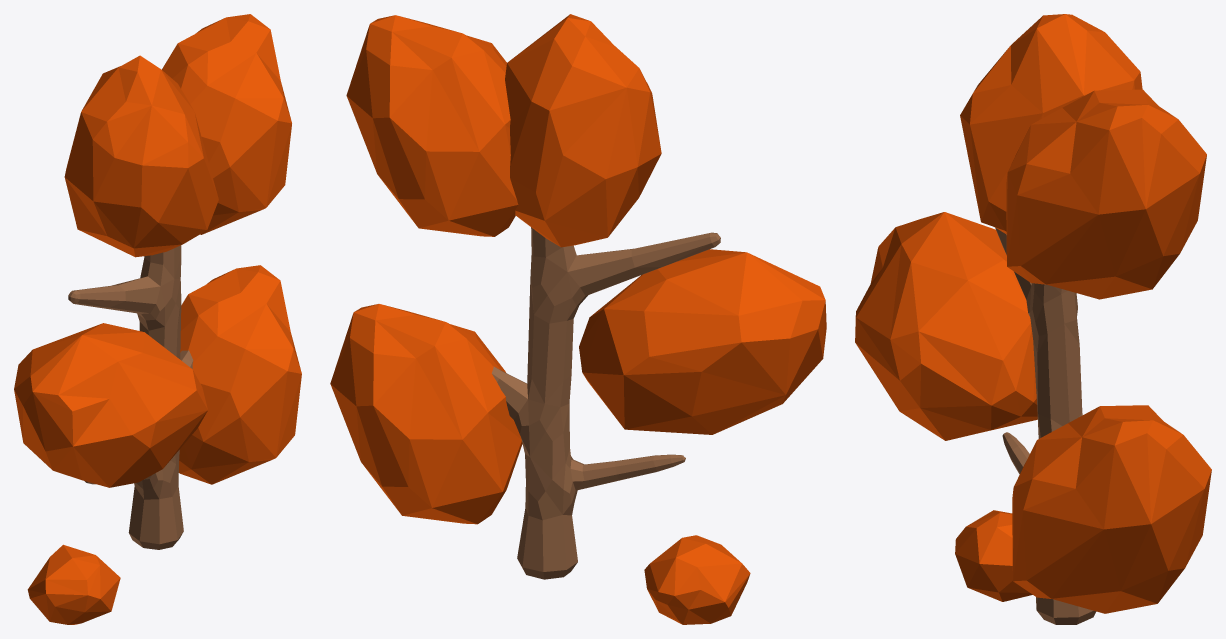
File: tree-autumn-complete-11-003.glb
The picture shows the model from 3 angles, left to right: view 1: azimuth 30°, elevation 25°; view 2: azimuth 150°, elevation 25°; view 3: azimuth 270°, elevation 25°; orthographic projection. The views are drawn at different scales.
Parts seen in each view (by area): view 1: TREE 11.003_384, TREE 11.002_385; view 2: TREE 11.003_384, TREE 11.002_385; view 3: TREE 11.003_384, TREE 11.002_385.
Part boxes in pixels (x1,y1,x2,y2): TREE 11.003_384: (14,14,301,624); TREE 11.002_385: (68,245,193,549); TREE 11.003_384: (330,14,826,624); TREE 11.002_385: (491,227,720,579); TREE 11.003_384: (855,14,1211,613); TREE 11.002_385: (995,228,1096,624).
Bounding box in the file's own units: 1.25 × 1.85 × 0.9391.
